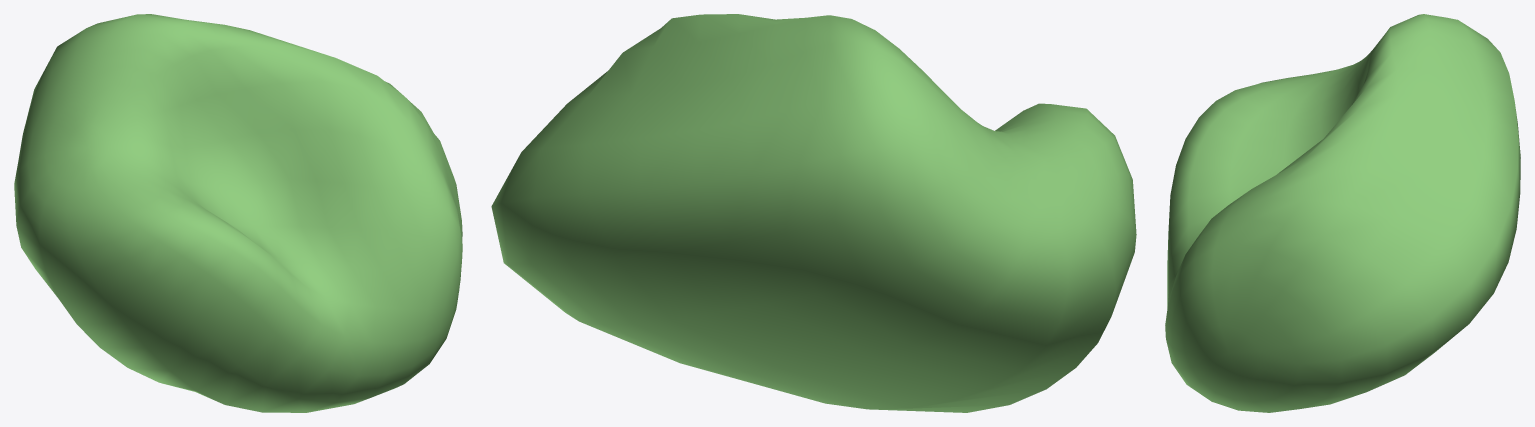
The model's file is Mesh_Blattwerk_1.fbx.
3 renders of one model, left to right at view 1: azimuth 30°, elevation 25°; view 2: azimuth 150°, elevation 25°; view 3: azimuth 270°, elevation 25°, orthographic. The views are drawn at different scales.
Visible parts, largest first — view 1: Blattwerk; view 2: Blattwerk; view 3: Blattwerk.
Boxes of the visible parts, <box> form: Blattwerk: <box>14,14,462,412</box>; Blattwerk: <box>491,14,1136,412</box>; Blattwerk: <box>1165,14,1520,412</box>.
Size of the model in its own units: 10.53 by 8.08 by 8.06.
